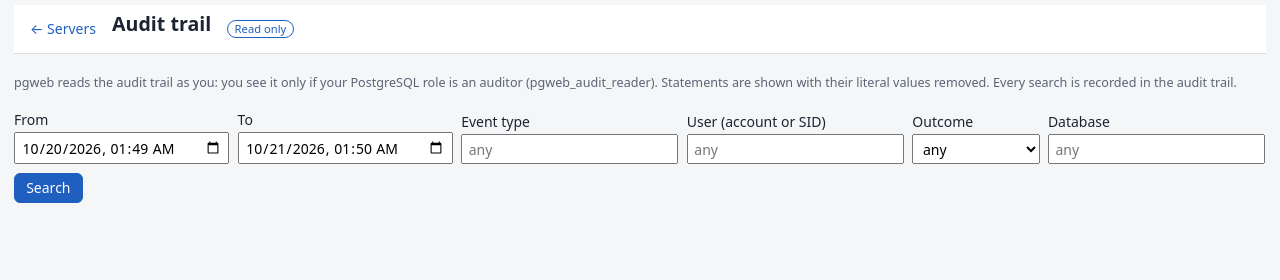
it: audit viewer (admin Phase 9) › explains when your role is not an auditor, and when nothing matches
This screenshot has width=1280, height=280.
Click the button "Search" at (48, 188), box [14, 173, 83, 203]
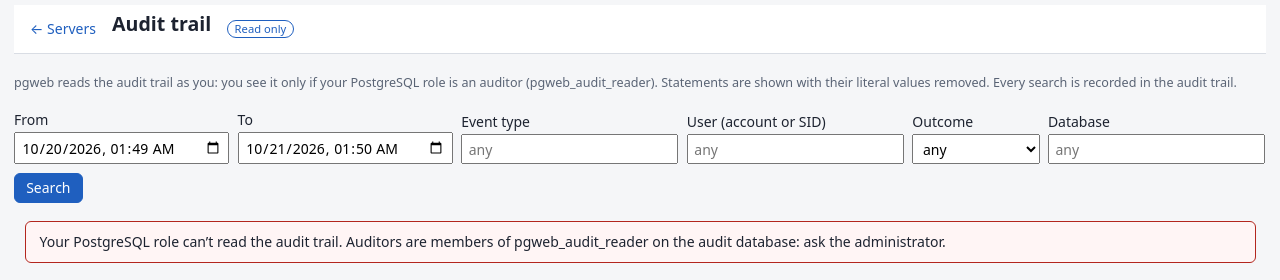
Expected: the message shows "pgweb_audit_reader", [40, 232, 946, 251]
Click the button "Search" at (48, 188), box [14, 173, 83, 203]
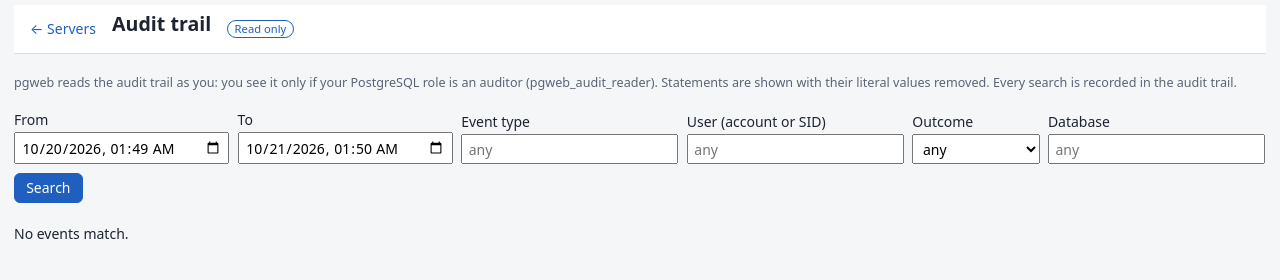
Expected: the text "No events match." is shown, [14, 224, 129, 243]
Expected: the message is gone
